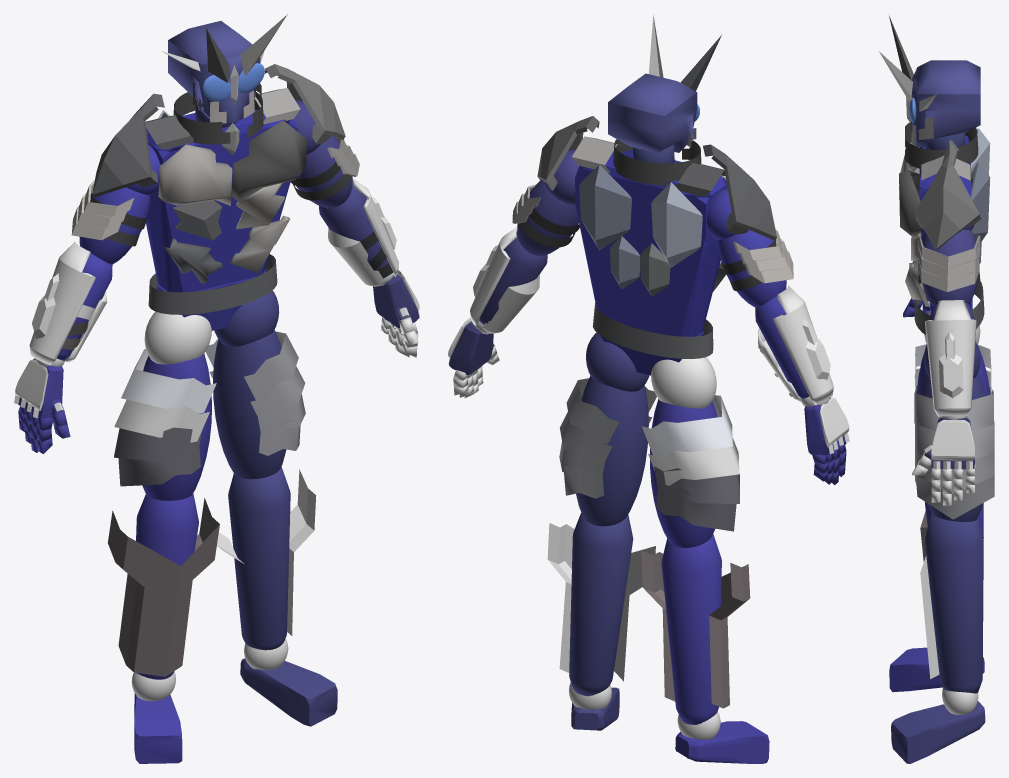
The model's file is KamenRider.glb.
The picture shows the model from 3 angles, left to right: view 1: azimuth 30°, elevation 25°; view 2: azimuth 150°, elevation 25°; view 3: azimuth 270°, elevation 25°; orthographic projection. The views are drawn at different scales.
Visible parts, largest first — view 1: Cube.003, Sphere.007, Plane.037, Plane.032, Cube, Plane.031, Cube.007, Cylinder.001, Plane.016, Sphere, Plane.007, Plane.015 (+24 smaller); view 2: Cube.003, Sphere.007, Cube, Plane.032, Cube.007, Cylinder.001, Plane.037, Plane.031, Sphere, Plane.036, Plane.011, Plane.012 (+18 smaller); view 3: Cube.003, Plane.031, Cube.007, Cylinder.005, Plane.003, Sphere.007, Plane, Cylinder.001, Cube.008, Cube.017, Sphere.019, Plane.016 (+17 smaller).
Part boxes in pixels (bbox=[...]): Cube.003: bbox=[213, 290, 337, 726]; Sphere.007: bbox=[134, 311, 211, 763]; Plane.037: bbox=[108, 498, 219, 676]; Plane.032: bbox=[114, 349, 216, 486]; Cube: bbox=[146, 109, 297, 292]; Plane.031: bbox=[205, 331, 305, 455]; Cube.007: bbox=[168, 21, 260, 122]; Cylinder.001: bbox=[294, 100, 388, 270]; Plane.016: bbox=[232, 120, 306, 202]; Sphere: bbox=[57, 144, 160, 360]; Plane.007: bbox=[92, 93, 164, 197]; Plane.015: bbox=[158, 144, 232, 205]; Cube.003: bbox=[569, 332, 649, 730]; Sphere.007: bbox=[650, 357, 769, 763]; Cube: bbox=[575, 149, 727, 336]; Plane.032: bbox=[641, 395, 739, 531]; Cube.007: bbox=[608, 73, 697, 153]; Cylinder.001: bbox=[479, 150, 578, 324]; Plane.037: bbox=[641, 550, 750, 708]; Plane.031: bbox=[559, 378, 656, 498]; Sphere: bbox=[706, 188, 809, 398]; Plane.036: bbox=[547, 523, 655, 681]; Plane.011: bbox=[579, 164, 631, 250]; Plane.012: bbox=[651, 182, 705, 267]; Cube.003: bbox=[891, 341, 985, 763]; Plane.031: bbox=[914, 389, 994, 519]; Cube.007: bbox=[911, 60, 980, 146]; Cylinder.005: bbox=[924, 300, 976, 416]; Plane.003: bbox=[915, 140, 981, 249]; Sphere.007: bbox=[889, 310, 990, 692]; Plane: bbox=[918, 234, 980, 291]; Cylinder.001: bbox=[922, 224, 977, 320]; Cube.008: bbox=[931, 419, 974, 460]; Cube.017: bbox=[912, 449, 975, 505]; Sphere.019: bbox=[905, 122, 978, 168]; Plane.016: bbox=[899, 170, 921, 235].
Bounding box in the file's own units: 4.07 × 7.22 × 1.1.
